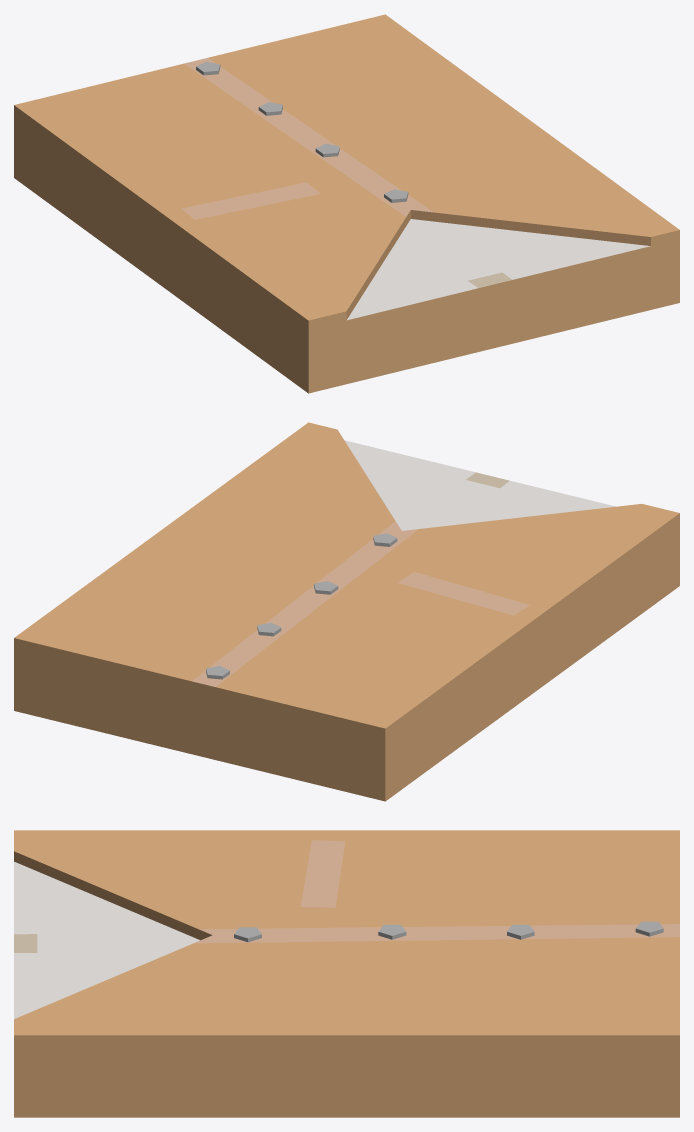
File: stock.fbx
3 renders of one model, top to bottom at view 1: azimuth 30°, elevation 25°; view 2: azimuth 150°, elevation 25°; view 3: azimuth 270°, elevation 25°, orthographic. The views are drawn at different scales.
Visible parts, largest first — view 1: Cylinder; view 2: Cylinder; view 3: Cylinder.
Boxes of the visible parts, box(x1,y1,x2,y2) form: Cylinder: box(14, 14, 679, 393); Cylinder: box(14, 422, 679, 801); Cylinder: box(14, 830, 679, 1117).
Bounding box in the file's own units: 33.19 × 6.52 × 45.57.
